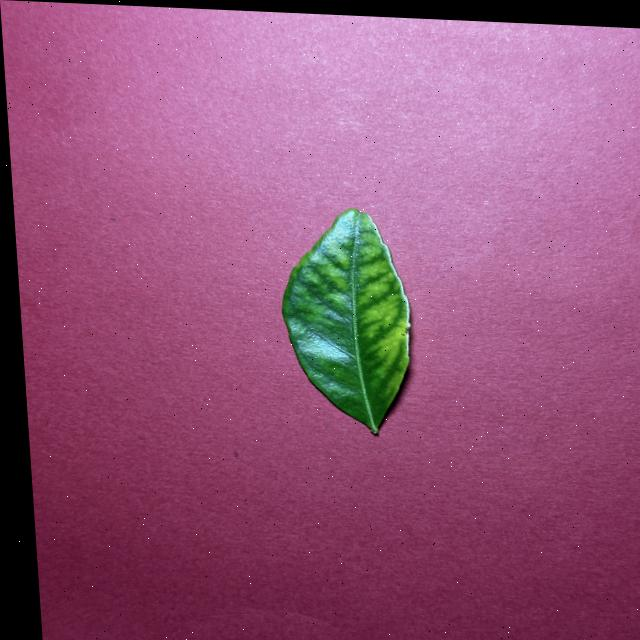greening: (282, 209, 410, 434)
